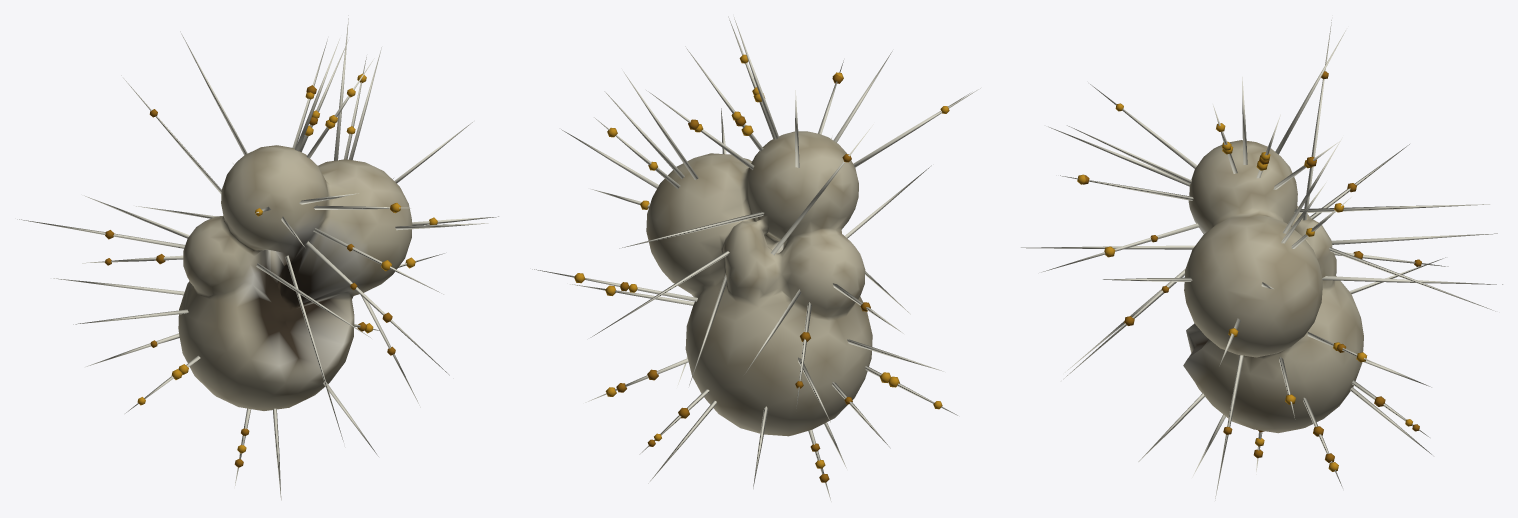
Rendered from Globigerina.fbx.
3 views of the same model, side by side, from view 1: azimuth 30°, elevation 25°; view 2: azimuth 150°, elevation 25°; view 3: azimuth 270°, elevation 25° (orthographic). The views are drawn at different scales.
Parts seen in each view (by area): view 1: Globigerina; view 2: Globigerina; view 3: Globigerina.
Part boxes in pixels (x1,y1,x2,y2): Globigerina: (17, 15, 498, 500); Globigerina: (532, 16, 980, 501); Globigerina: (1021, 20, 1502, 500).
Size of the model in its own units: 1.37 by 1.44 by 1.43.
